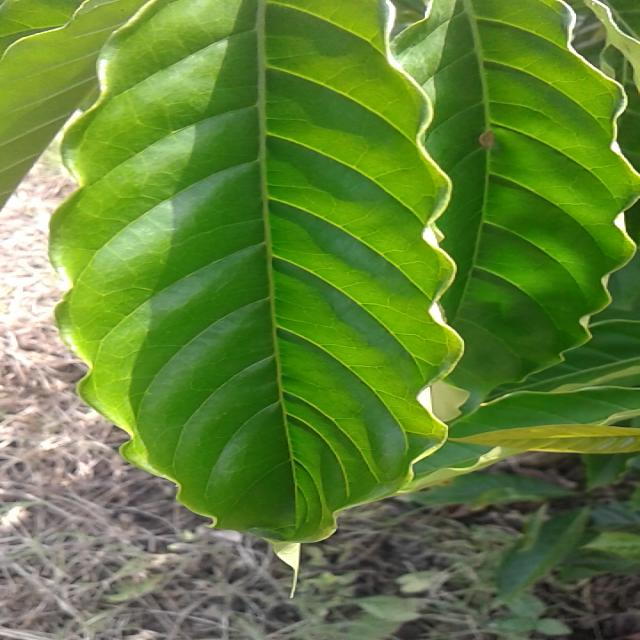Sanas: (47, 0, 474, 546)
